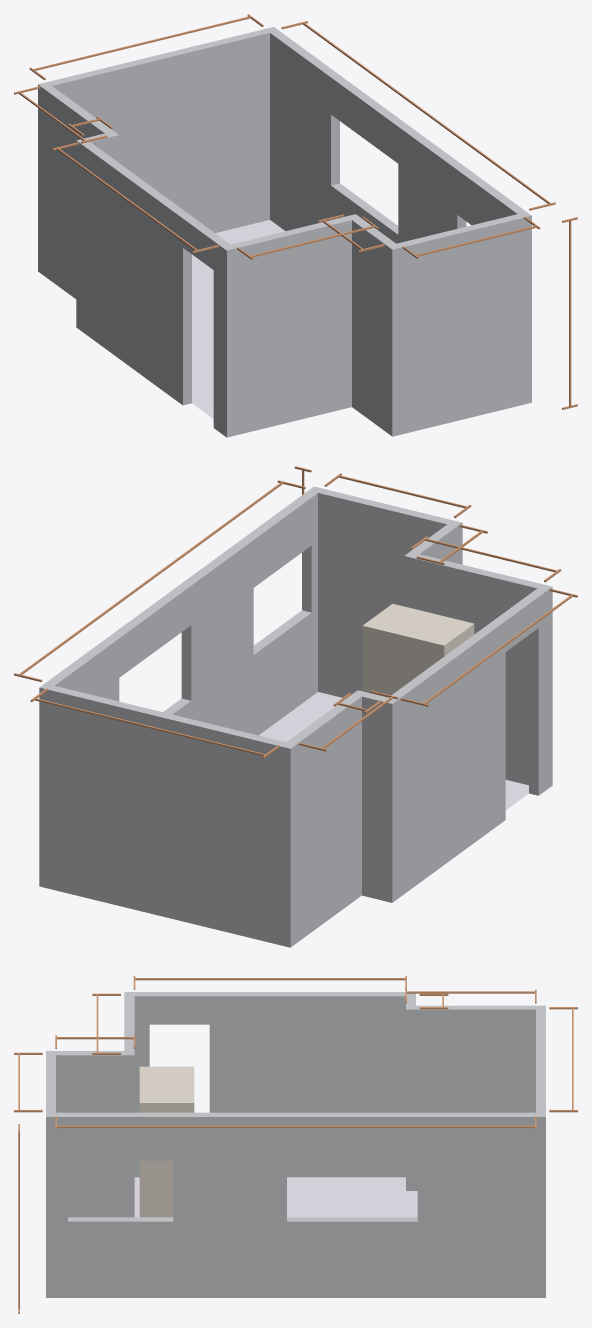
File: room-bedroom1.glb
3 views of the same model, one above another, from view 1: azimuth 30°, elevation 25°; view 2: azimuth 150°, elevation 25°; view 3: azimuth 270°, elevation 25° (orthographic). The views are drawn at different scales.
Visible parts, largest first — view 1: bedroom1; view 2: bedroom1; view 3: bedroom1.
Boxes of the visible parts, x1,y1,x2,y2 form: bedroom1: [14, 14, 577, 437]; bedroom1: [14, 466, 577, 947]; bedroom1: [14, 976, 577, 1313].
Size of the model in its own units: 4.31 by 2.41 by 6.69.
